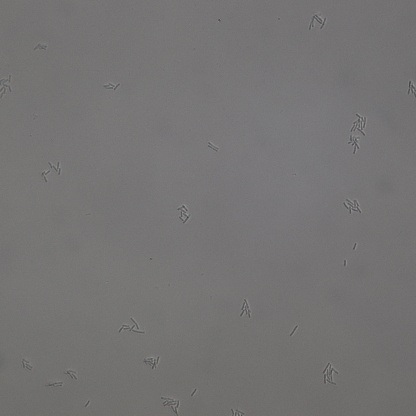R(colony): (39, 161, 61, 184), (118, 317, 145, 334), (161, 396, 181, 416), (322, 362, 339, 385), (350, 113, 368, 134), (176, 202, 190, 226), (1, 75, 14, 99), (142, 355, 160, 372), (343, 197, 361, 213), (308, 13, 326, 29), (348, 136, 361, 155), (239, 299, 252, 317), (103, 81, 121, 91), (20, 359, 34, 371), (64, 370, 78, 380)
